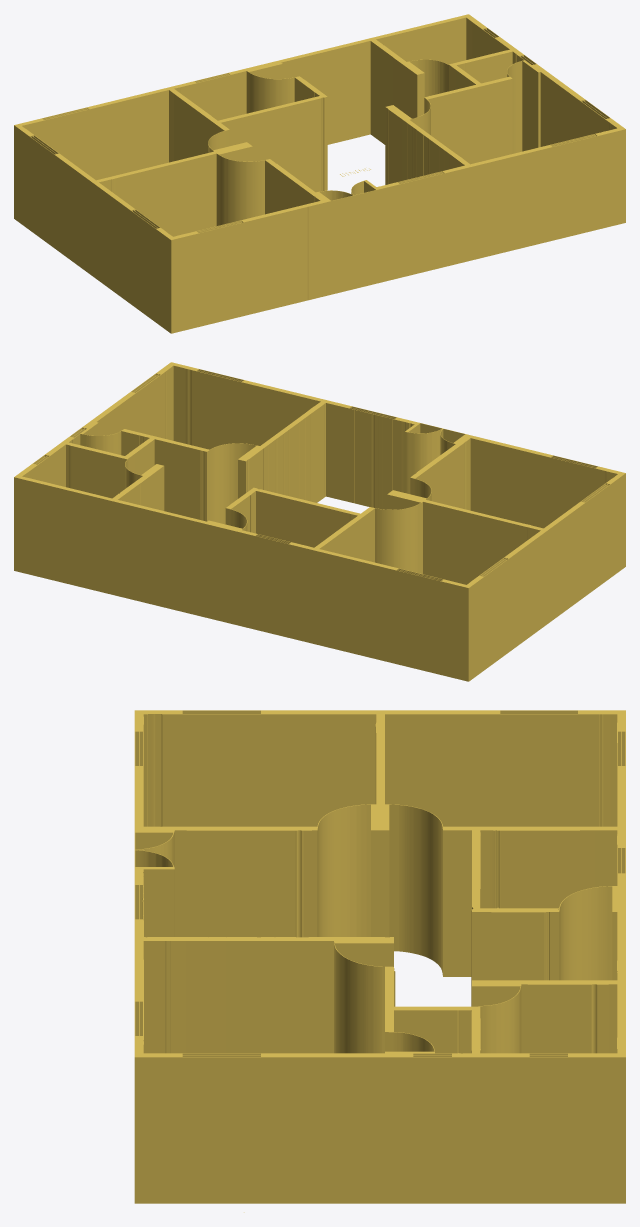
File: 3bhk3.glb
3 views of the same model, one above another, from view 1: azimuth 30°, elevation 25°; view 2: azimuth 150°, elevation 25°; view 3: azimuth 270°, elevation 25° (orthographic). The views are drawn at different scales.
Parts seen in each view (by area): view 1: path2; view 2: path2; view 3: path2.
Boxes of the visible parts, x1=… form: path2: x1=14, y1=14, x2=625, y2=333; path2: x1=14, y1=362, x2=625, y2=681; path2: x1=134, y1=710, x2=625, y2=1212.
Bounding box in the file's own units: 10.64 × 2.04 × 7.73.
